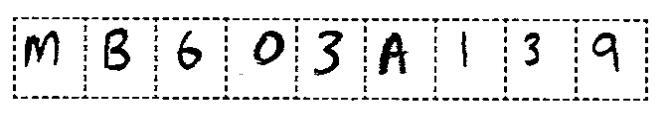0: (246, 28, 291, 71)
1: (447, 26, 480, 72)
3: (310, 23, 346, 80), (515, 27, 550, 71)
6: (174, 27, 210, 76)
9: (588, 28, 628, 76)
A: (372, 27, 414, 81)
B: (100, 25, 135, 75)
M: (21, 25, 67, 71)
